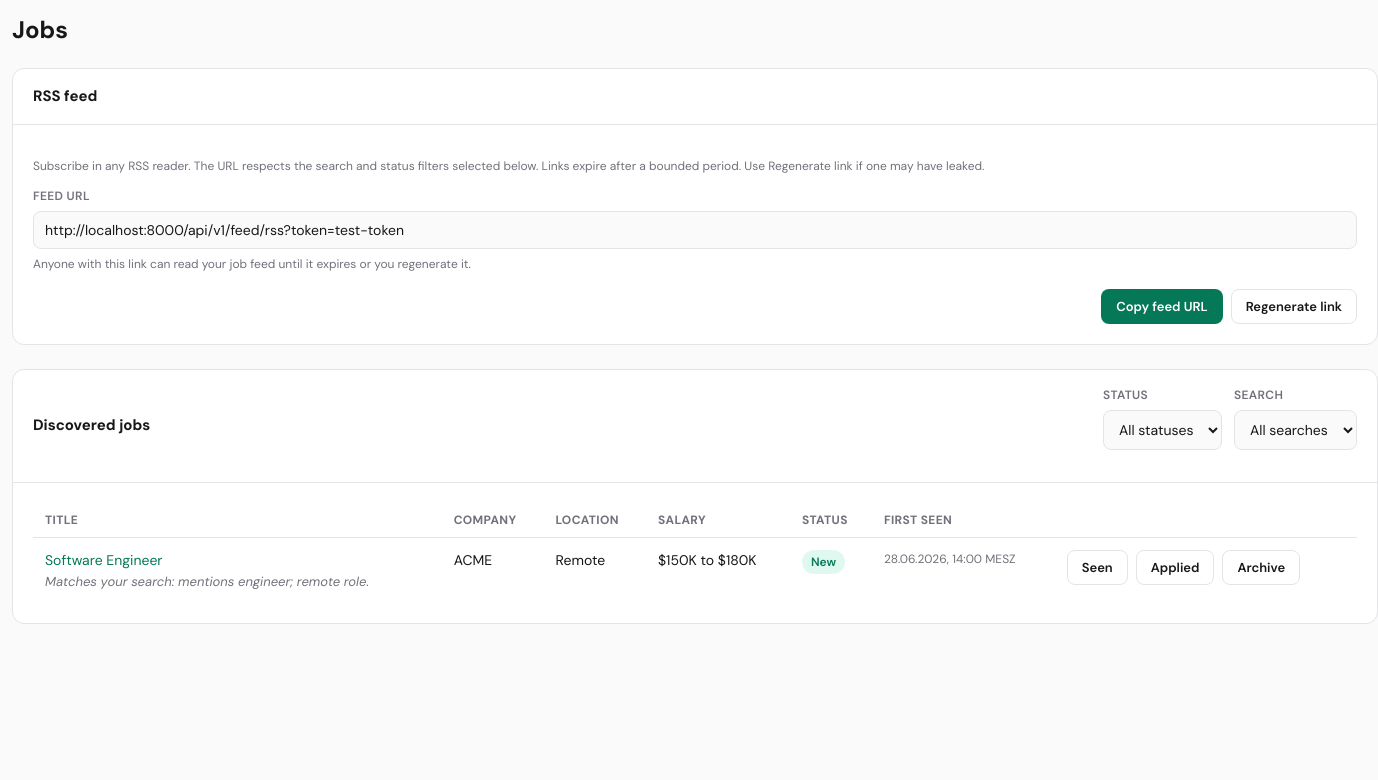
Test: JobsPage › copies the filtered feed URL and selects the input on focus
The image size is (1378, 780).
Focus the field showing "http://localhost:8000/api/v1/feed/rss?token=test-token": {"x": 695, "y": 230} [33,210,1357,248]
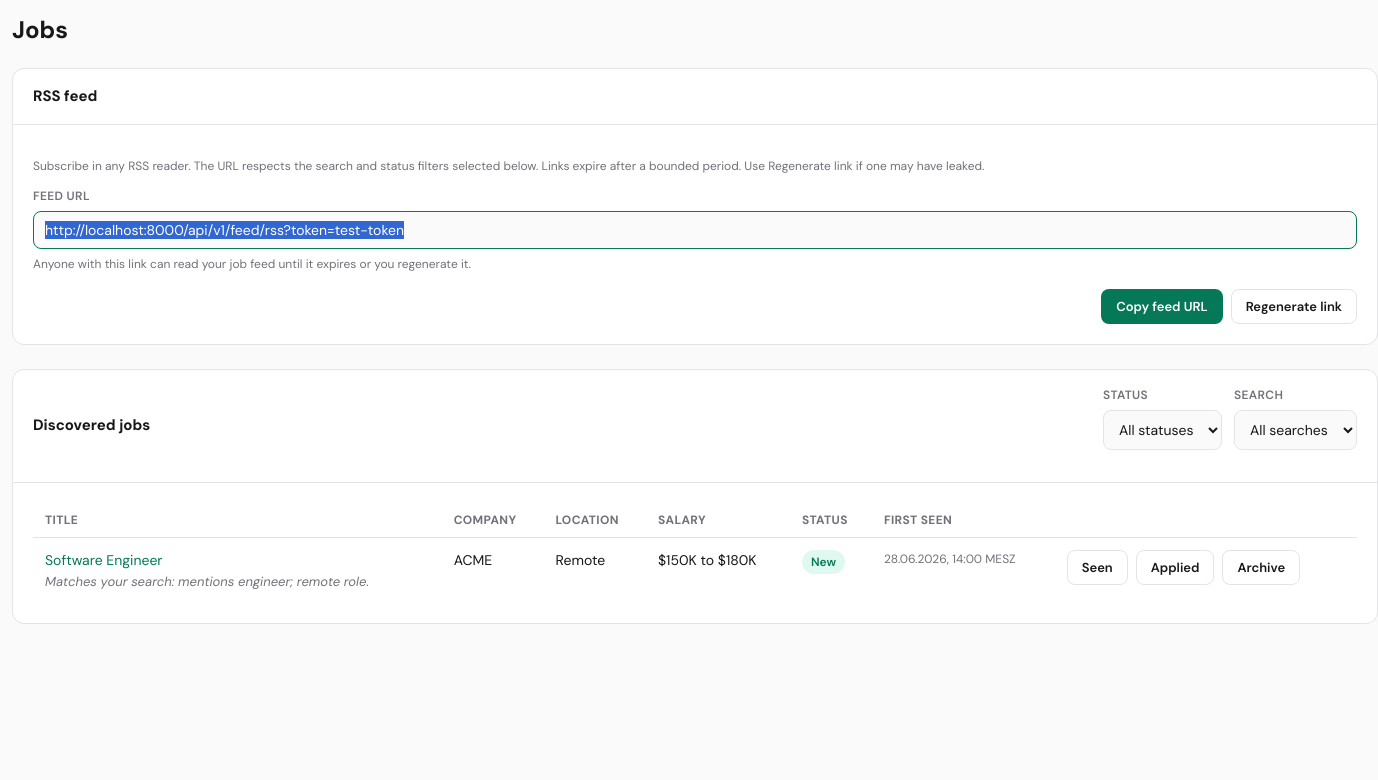
# Apply both filters so the copied URL includes the query params.
Select "New" in the dropdown labelled "Status": {"x": 1162, "y": 430} [1103,410,1222,450]
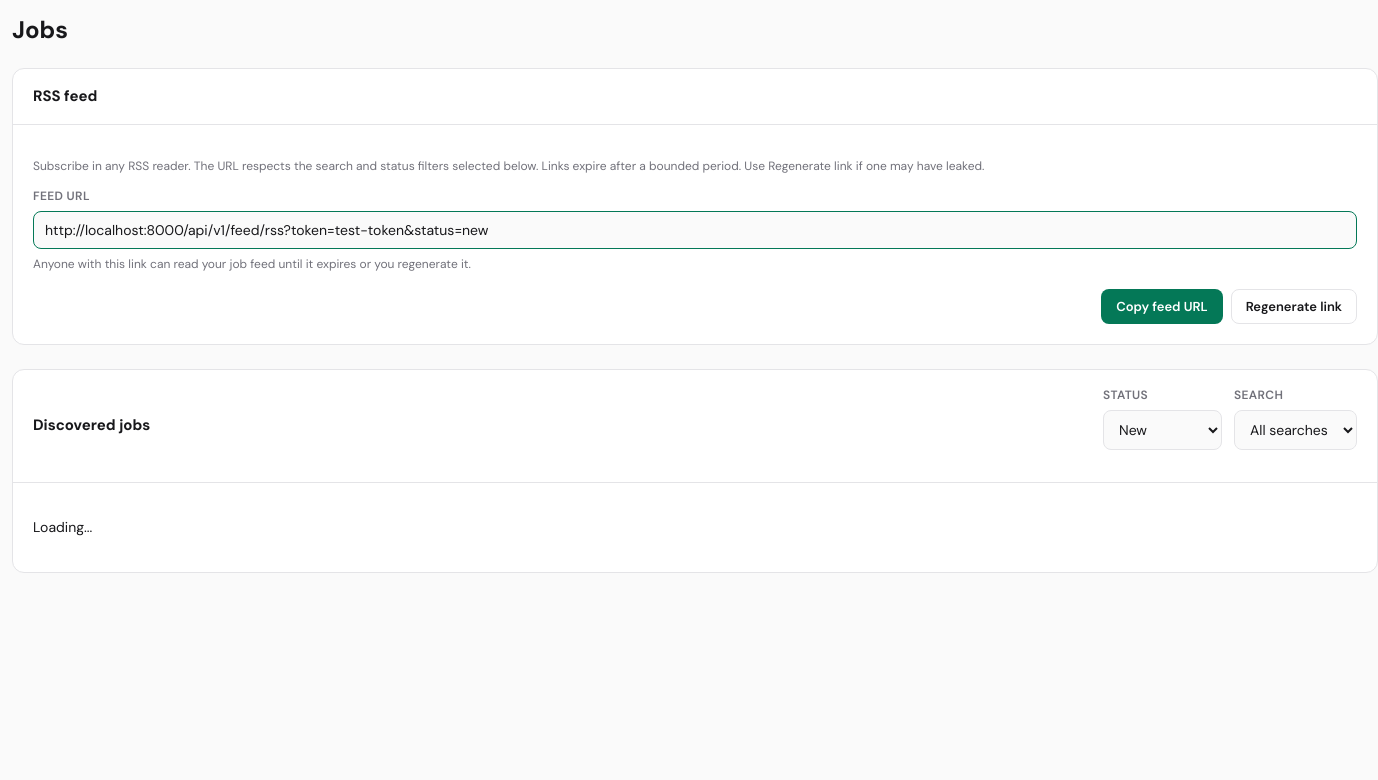
Select "Google SWE" in the dropdown labelled "Search": {"x": 1296, "y": 430} [1234,410,1357,450]
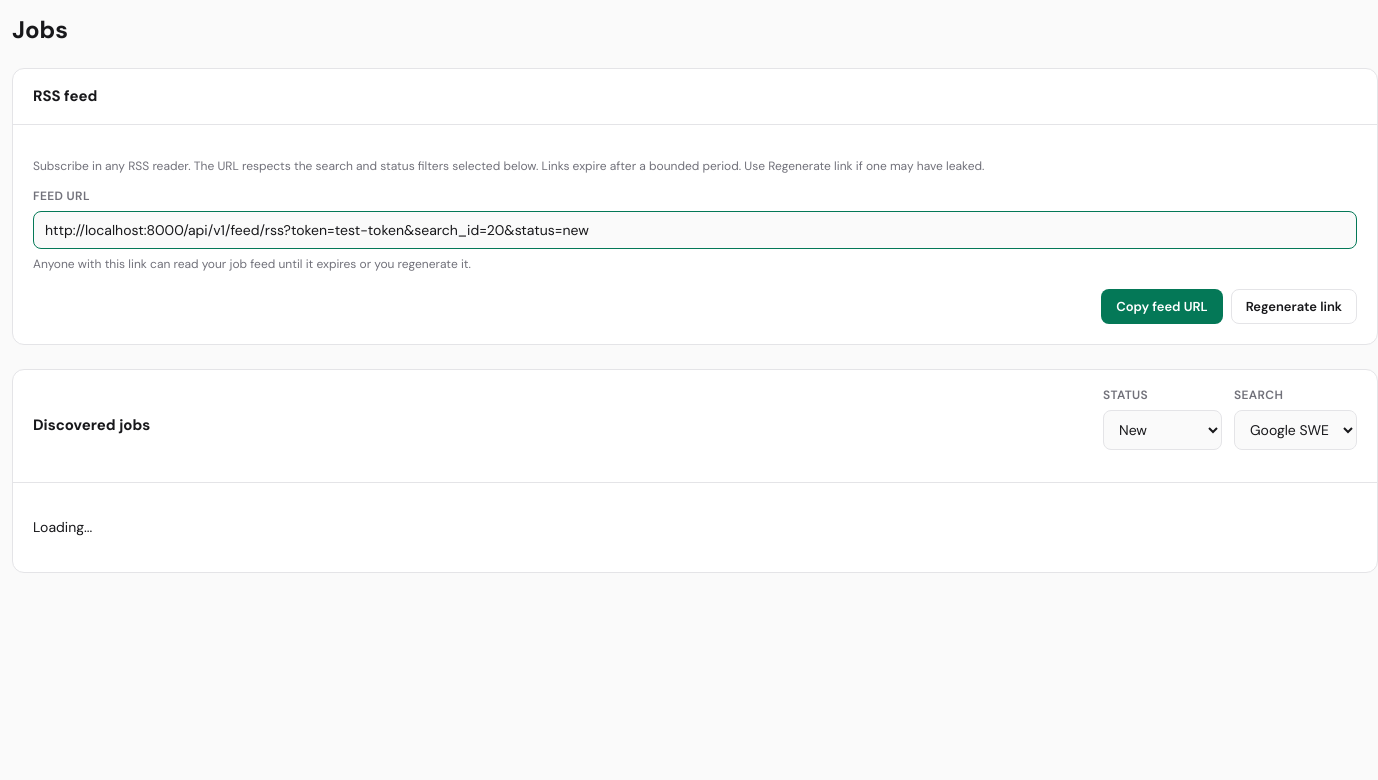
Click the button "Copy feed URL": {"x": 1162, "y": 306} [1101,288,1223,324]
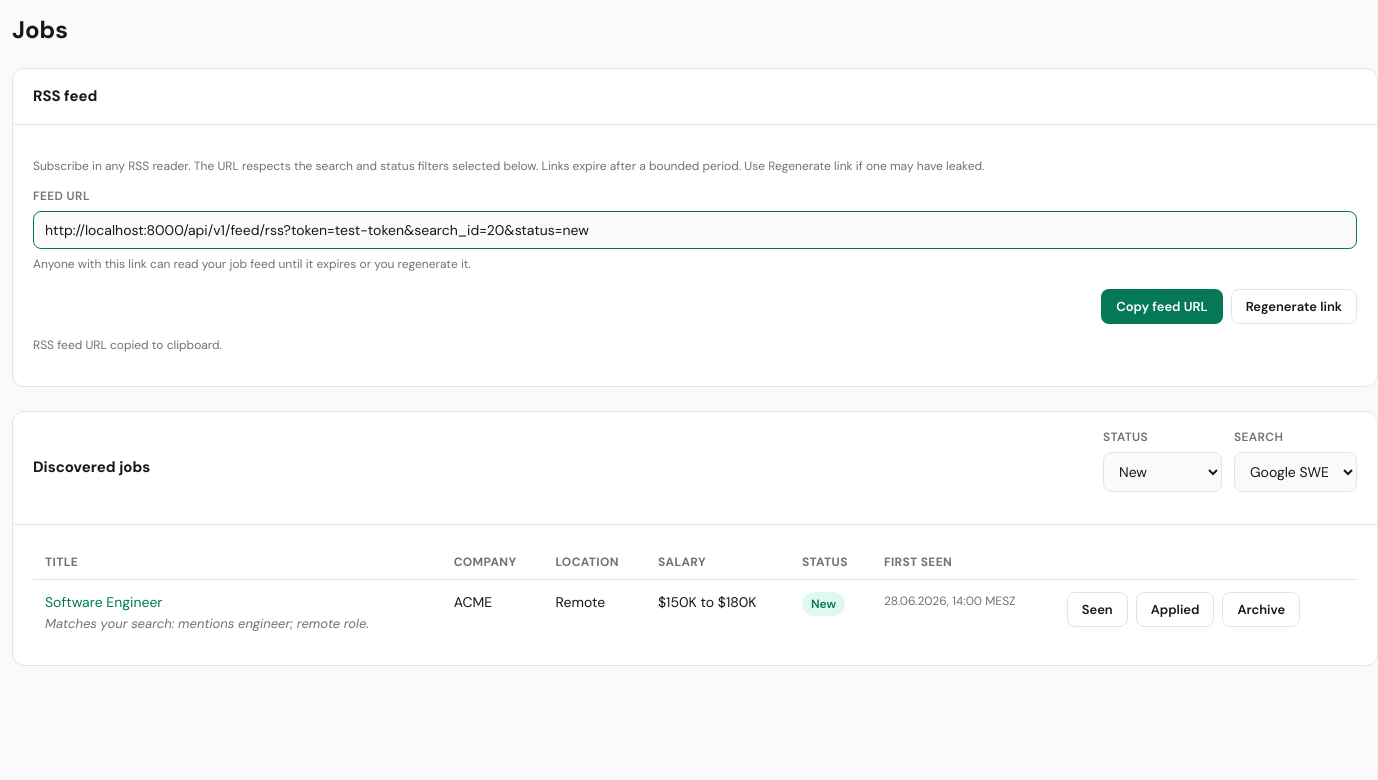
Expected: the text "RSS feed URL copied to clipboard." is shown, [33,336,222,352]
